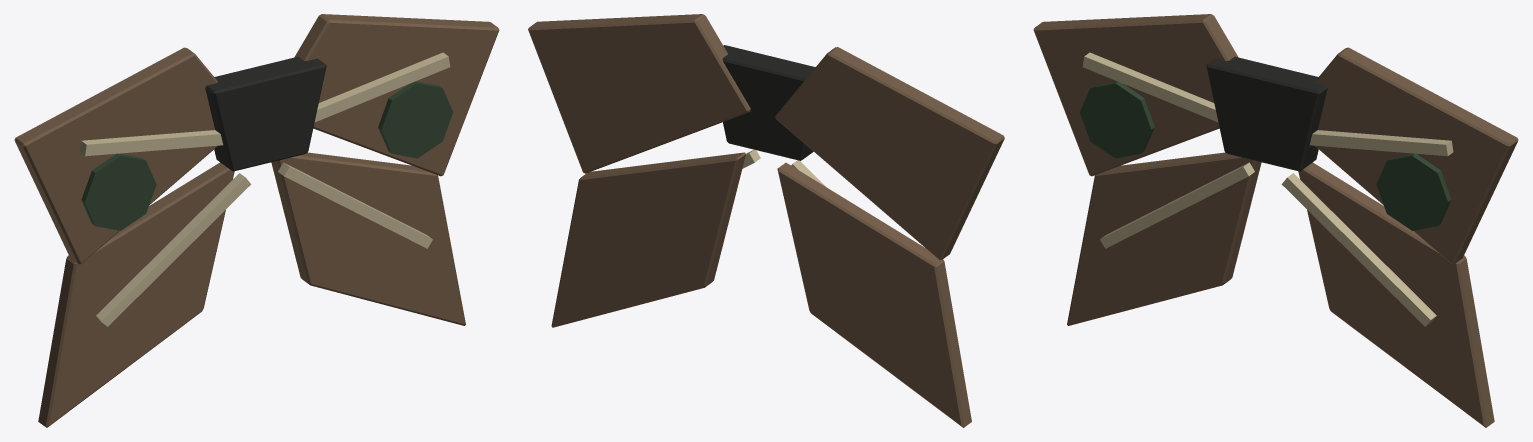
File: moth_cloak.obj
The picture shows the model from 3 angles, left to right: view 1: azimuth 30°, elevation 25°; view 2: azimuth 150°, elevation 25°; view 3: azimuth 330°, elevation 25°; orthographic projection.
Visible parts, largest first — view 1: B_LeftLowerWing.001_aged_cloth, B_LeftUpperWing.001_aged_cloth, B_Collar.001_wrought_iron, B_LeftEye.001_wet_residue, B_LeftRibLower.001_bone, B_LeftRibUpper.001_bone; view 2: B_LeftUpperWing.001_aged_cloth, B_LeftLowerWing.001_aged_cloth, B_Collar.001_wrought_iron; view 3: B_LeftLowerWing.001_aged_cloth, B_LeftUpperWing.001_aged_cloth, B_Collar.001_wrought_iron, B_LeftEye.001_wet_residue, B_LeftRibLower.001_bone, B_LeftRibUpper.001_bone.
Part boxes in pixels (x1,y1,x2,y2): B_LeftLowerWing.001_aged_cloth: [38, 152, 465, 427]; B_LeftUpperWing.001_aged_cloth: [14, 14, 499, 264]; B_Collar.001_wrought_iron: [205, 56, 326, 171]; B_LeftEye.001_wet_residue: [81, 81, 453, 230]; B_LeftRibLower.001_bone: [96, 162, 432, 326]; B_LeftRibUpper.001_bone: [79, 52, 450, 156]; B_LeftUpperWing.001_aged_cloth: [528, 14, 1004, 259]; B_LeftLowerWing.001_aged_cloth: [551, 152, 971, 427]; B_Collar.001_wrought_iron: [722, 45, 815, 160]; B_LeftLowerWing.001_aged_cloth: [1067, 152, 1494, 427]; B_LeftUpperWing.001_aged_cloth: [1033, 14, 1518, 264]; B_Collar.001_wrought_iron: [1206, 56, 1327, 171]; B_LeftEye.001_wet_residue: [1079, 81, 1451, 230]; B_LeftRibLower.001_bone: [1100, 162, 1436, 326]; B_LeftRibUpper.001_bone: [1082, 52, 1453, 156].
Size of the model in its own units: 1.99 by 1.37 by 0.17.
